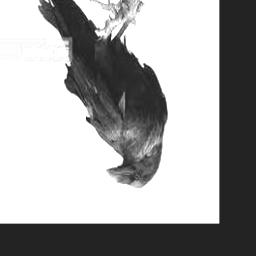Crow: (38, 0, 169, 190)
